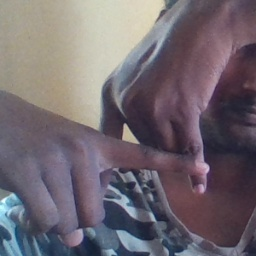H: (76, 80, 216, 211)
